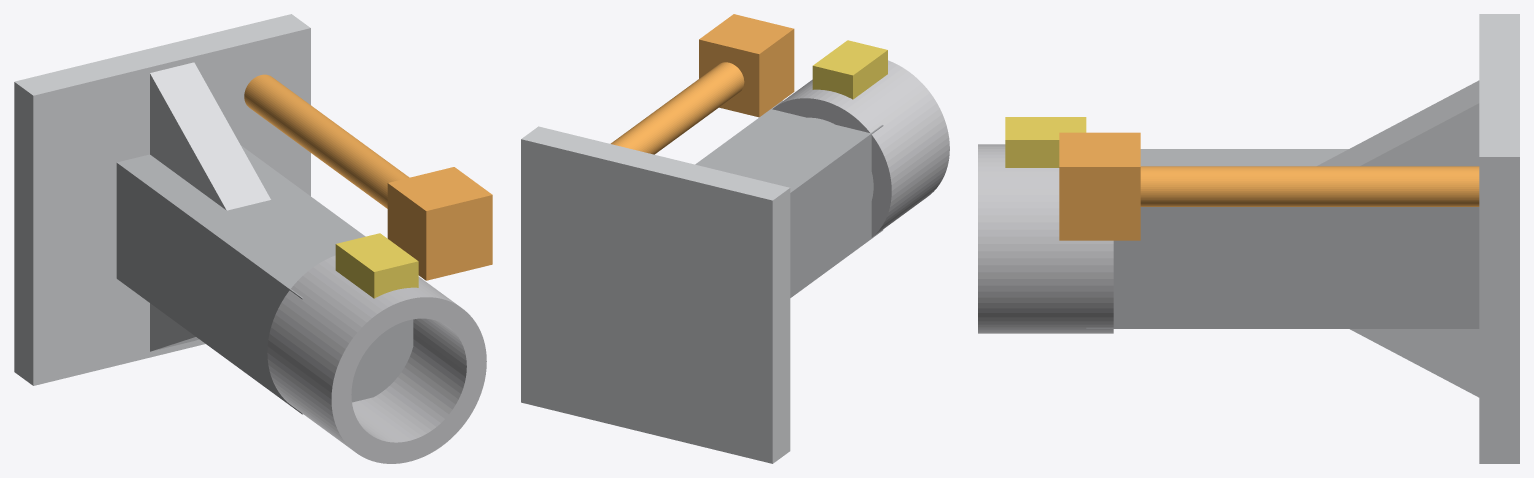
File: rover37_hitch_coupler_passive.glb
3 renders of one model, left to right at view 1: azimuth 30°, elevation 25°; view 2: azimuth 150°, elevation 25°; view 3: azimuth 270°, elevation 25°, orthographic. The views are drawn at different scales.
Parts seen in each view (by area): view 1: mount_plate, drawbar, hitch_socket, umbilical, gussets, latch; view 2: mount_plate, drawbar, hitch_socket, umbilical, latch; view 3: drawbar, umbilical, hitch_socket, mount_plate, gussets, latch.
Part boxes in pixels (left/top/right/bottom): mount_plate: left=14, top=14, right=310, bottom=385; drawbar: left=116, top=145, right=413, bottom=414; hitch_socket: left=267, top=255, right=486, bottom=463; umbilical: left=244, top=74, right=492, bottom=280; gussets: left=150, top=62, right=270, bottom=351; latch: left=335, top=233, right=418, bottom=298; mount_plate: left=521, top=126, right=790, bottom=463; drawbar: left=695, top=100, right=883, bottom=297; hitch_socket: left=772, top=60, right=949, bottom=237; umbilical: left=610, top=14, right=794, bottom=154; latch: left=812, top=40, right=887, bottom=99; drawbar: left=1086, top=149, right=1479, bottom=328; umbilical: left=1059, top=132, right=1479, bottom=240; hitch_socket: left=978, top=144, right=1113, bottom=333; mount_plate: left=1479, top=14, right=1519, bottom=463; gussets: left=1317, top=80, right=1479, bottom=397; latch: left=1005, top=117, right=1086, bottom=167.
Bounding box in the file's own units: 0.25 × 0.25 × 0.4.
